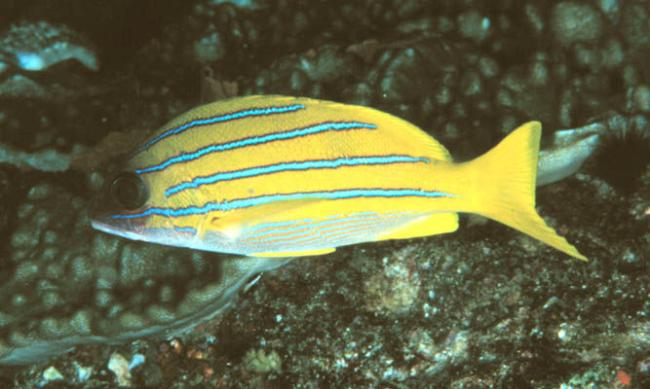fish: (86, 94, 590, 264)
